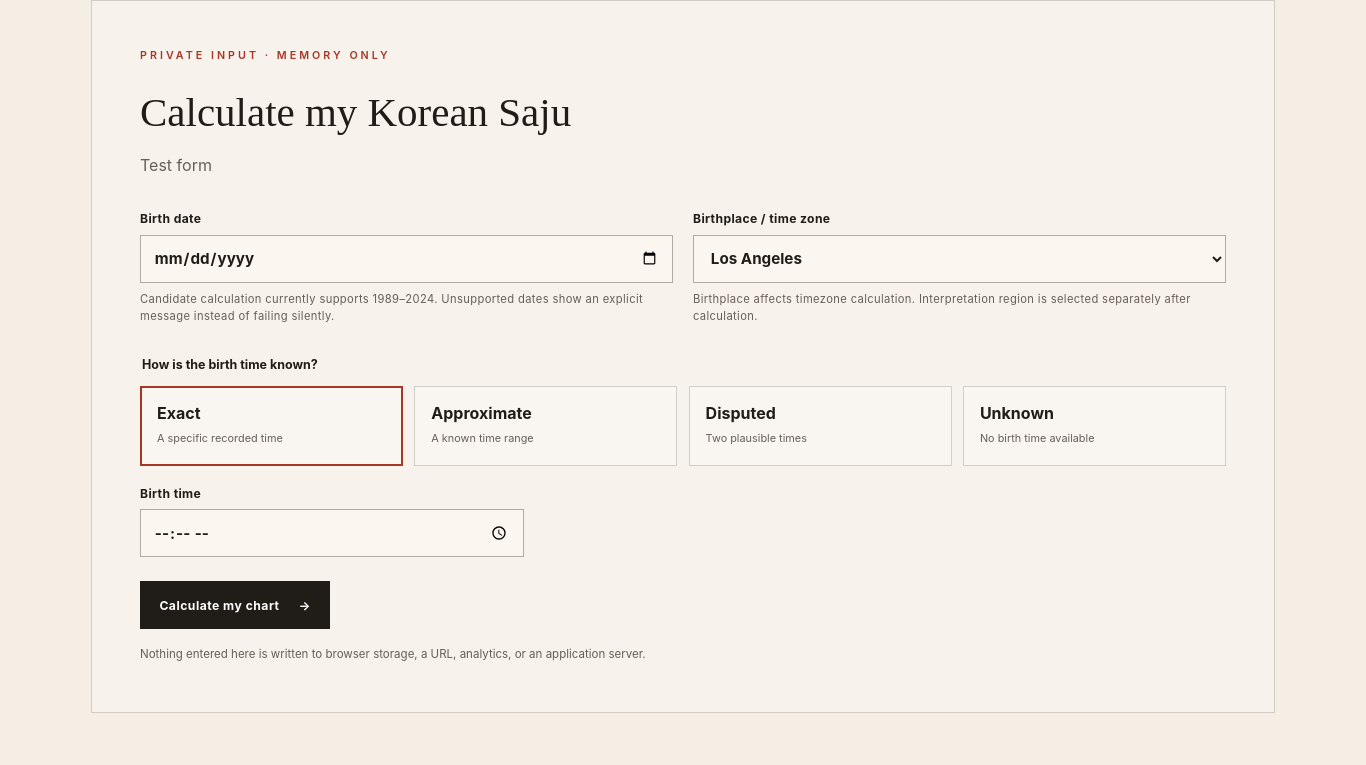
it: BirthForm submit feedback › shows a React error instead of silently relying on native browser constraints
Click the button "Calculate my chart →": (235, 605) [140,581,330,629]
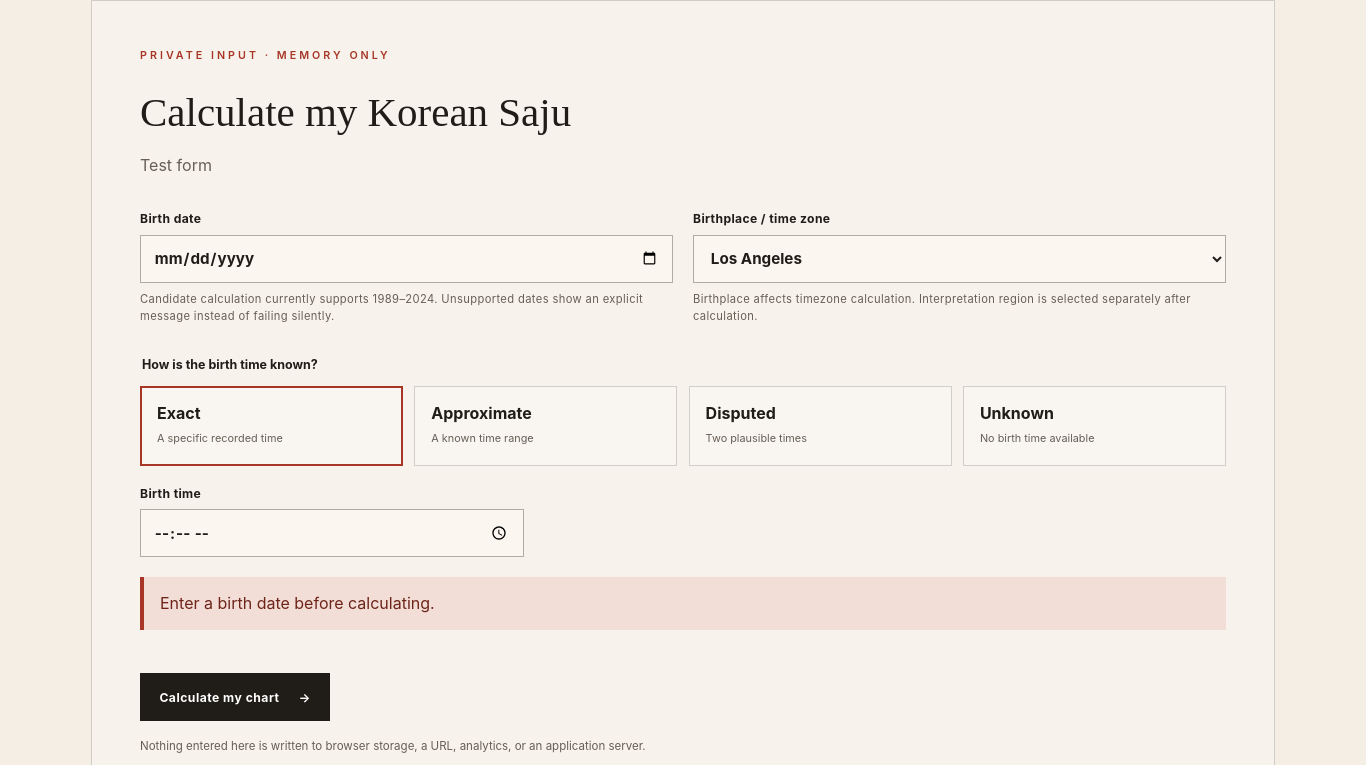
Now the message shows "Enter a birth date", box [160,593,435,613]
In the date field labelled "Birth date": (406, 259) [140,235,673,283], type "1979-12-22"
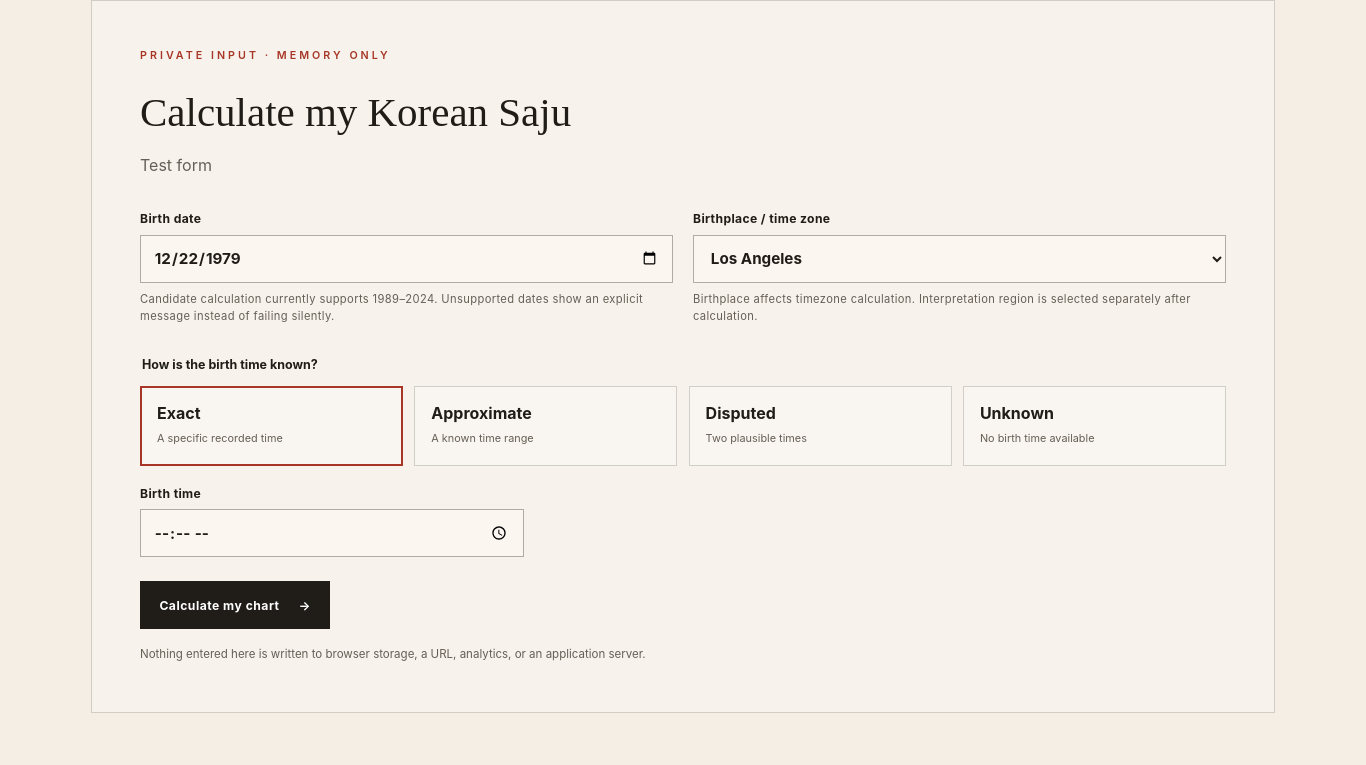
Click the button "Calculate my chart →": (235, 605) [140,581,330,629]
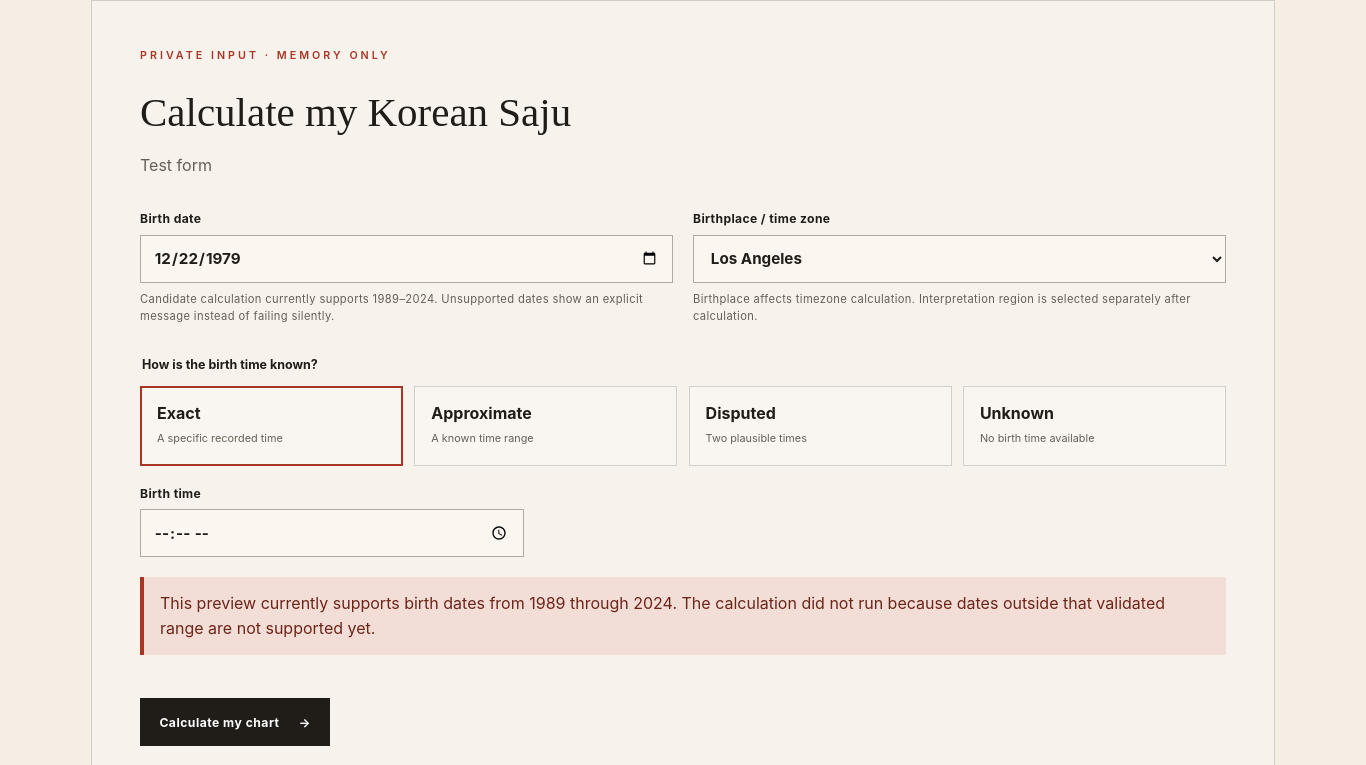
Now the message shows "1989 through 2024", box [160,593,1165,638]
In the date field labelled "Birth date": (406, 259) [140,235,673,283], type "1995-10-21"
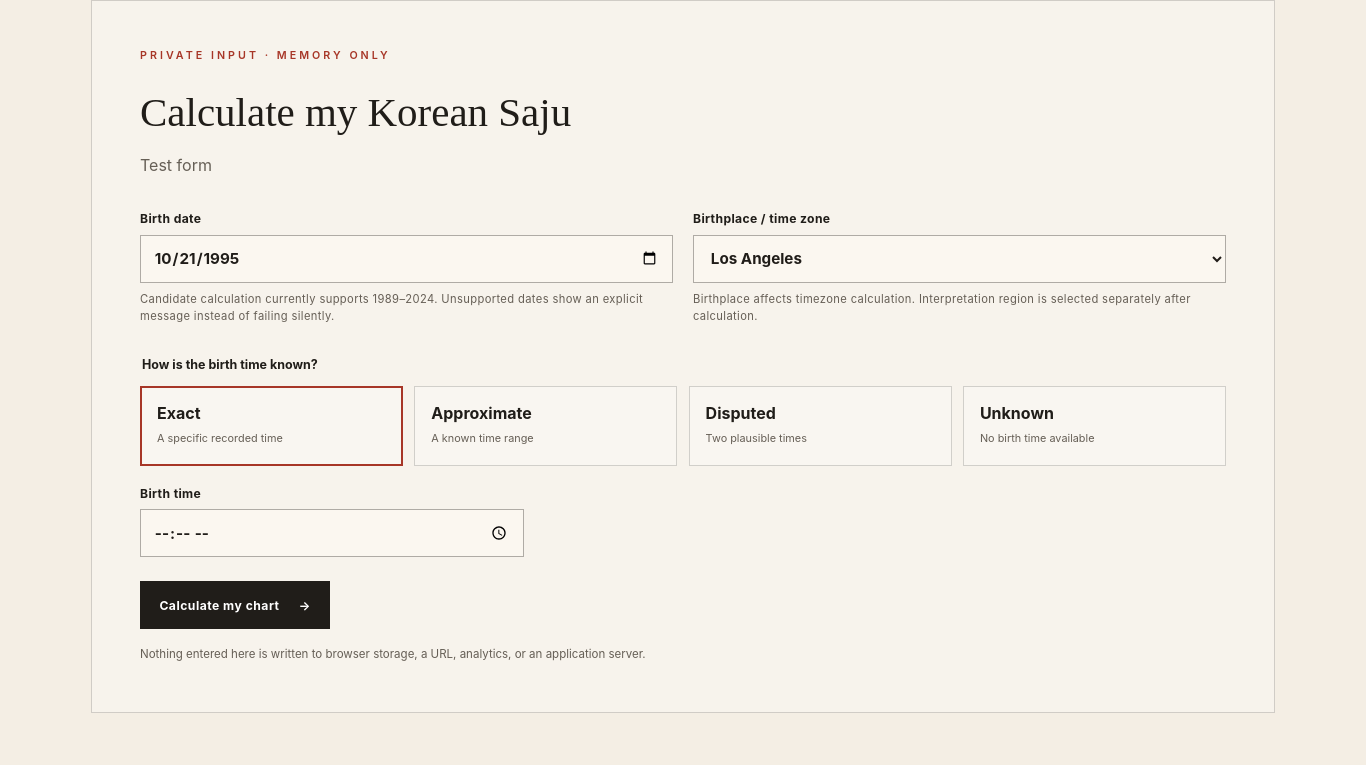
Click the button "Calculate my chart →": (235, 605) [140,581,330,629]
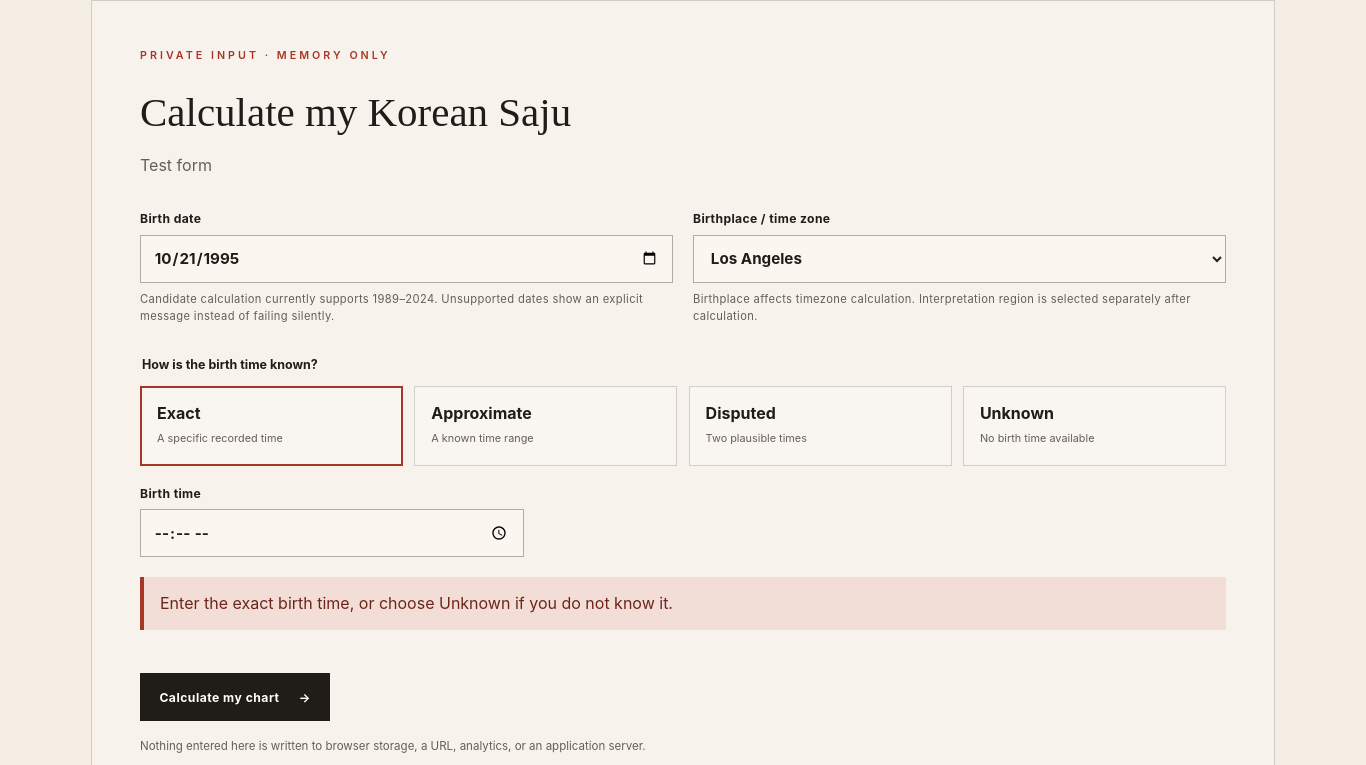
Now the message shows "Enter the exact birth time", box [160,593,673,613]
